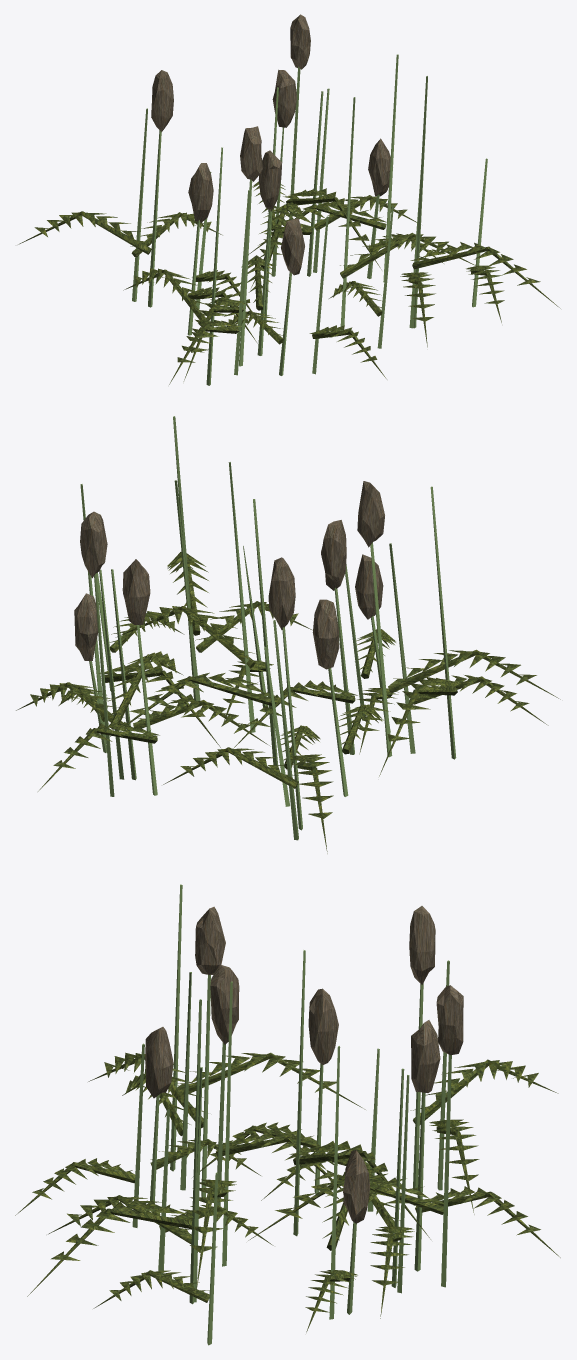
File: reeds_a.gltf
3 renders of one model, top to bottom at view 1: azimuth 30°, elevation 25°; view 2: azimuth 150°, elevation 25°; view 3: azimuth 270°, elevation 25°, orthographic. The views are drawn at different scales.
Parts seen in each view (by area): view 1: reeds_a_game; view 2: reeds_a_game; view 3: reeds_a_game.
Part boxes in pixels (x1,y1,x2,y2): reeds_a_game: (18, 14, 560, 385); reeds_a_game: (16, 416, 560, 853); reeds_a_game: (15, 884, 560, 1345).
Bounding box in the file's own units: 0.3316 × 0.2173 × 0.3445.
3 materials, 2 textured.
